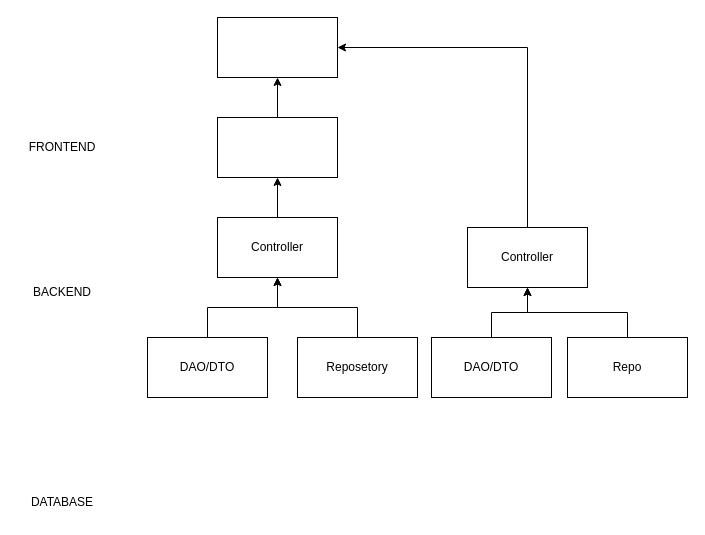
This 705x535 diagram has some shape labels left out. The centre of each missing label's shape, as x and y in pixels:
Cashflow: the point at 277,47
CashFlowDetail: the point at 277,147
